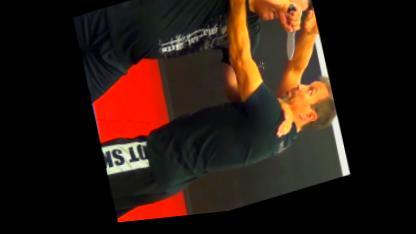knife: (272, 6, 310, 71)
